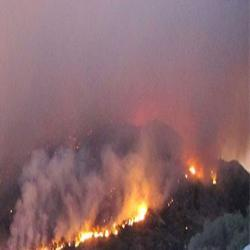fire: (131, 199, 146, 222), (79, 230, 109, 240), (187, 164, 198, 175)
